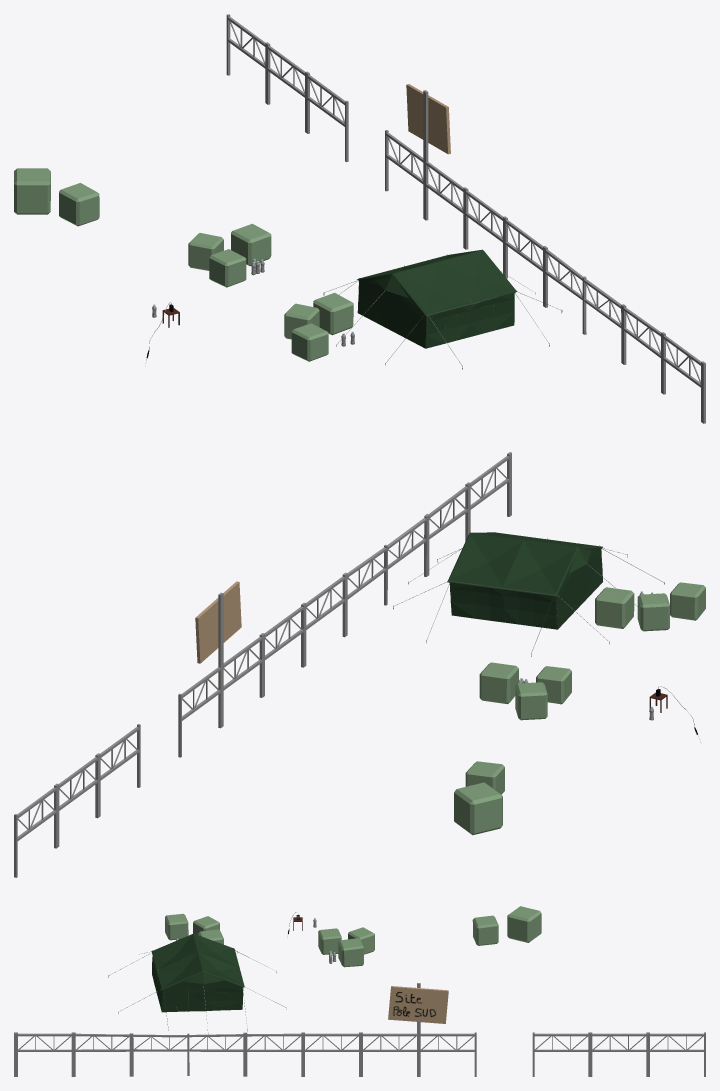
The model's file is pole_sud_props.fbx.
The picture shows the model from 3 angles, top to bottom: view 1: azimuth 30°, elevation 25°; view 2: azimuth 150°, elevation 25°; view 3: azimuth 270°, elevation 25°; orthographic projection. The views are drawn at different scales.
Parts seen in each view (by area): view 1: Plane; view 2: Plane; view 3: Plane.
Boxes of the visible parts, bbox=[...] form: Plane: bbox=[14, 14, 705, 423]; Plane: bbox=[14, 452, 705, 877]; Plane: bbox=[14, 906, 705, 1076].
Size of the model in its own units: 6848 by 2232 by 15060.
